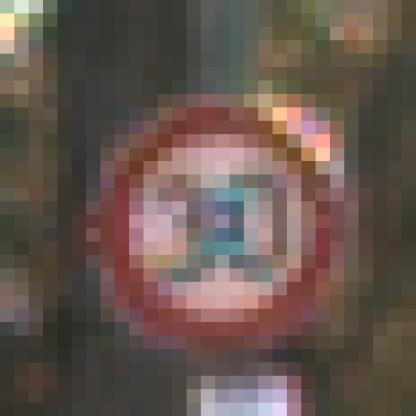Speed Limit 30: (98, 105, 334, 355)
